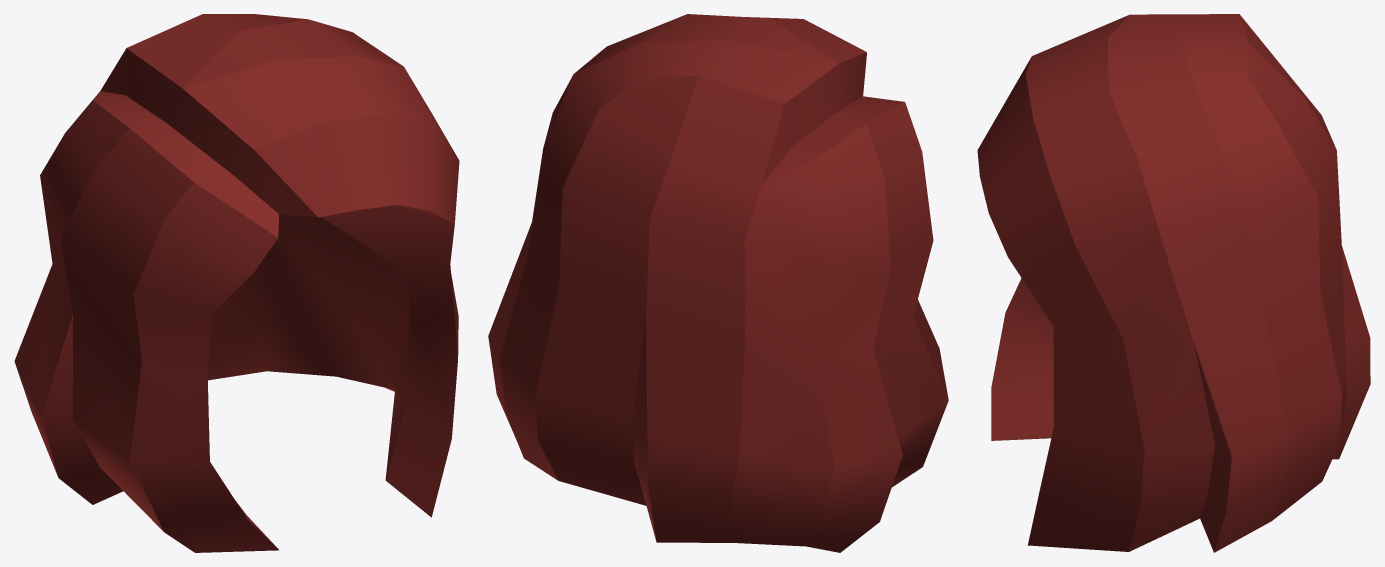
Rendered from Female_Hairs_01_v4.fbx.
3 views of the same model, side by side, from view 1: azimuth 30°, elevation 25°; view 2: azimuth 150°, elevation 25°; view 3: azimuth 270°, elevation 25° (orthographic). The views are drawn at different scales.
Parts seen in each view (by area): view 1: Female_Hairs_01_v4; view 2: Female_Hairs_01_v4; view 3: Female_Hairs_01_v4.
Boxes of the visible parts, x1,y1,x2,y2 form: Female_Hairs_01_v4: (14,14,459,552); Female_Hairs_01_v4: (488,14,948,552); Female_Hairs_01_v4: (977,14,1370,552).
Bounding box in the file's own units: 68.09 × 75.58 × 59.11.
